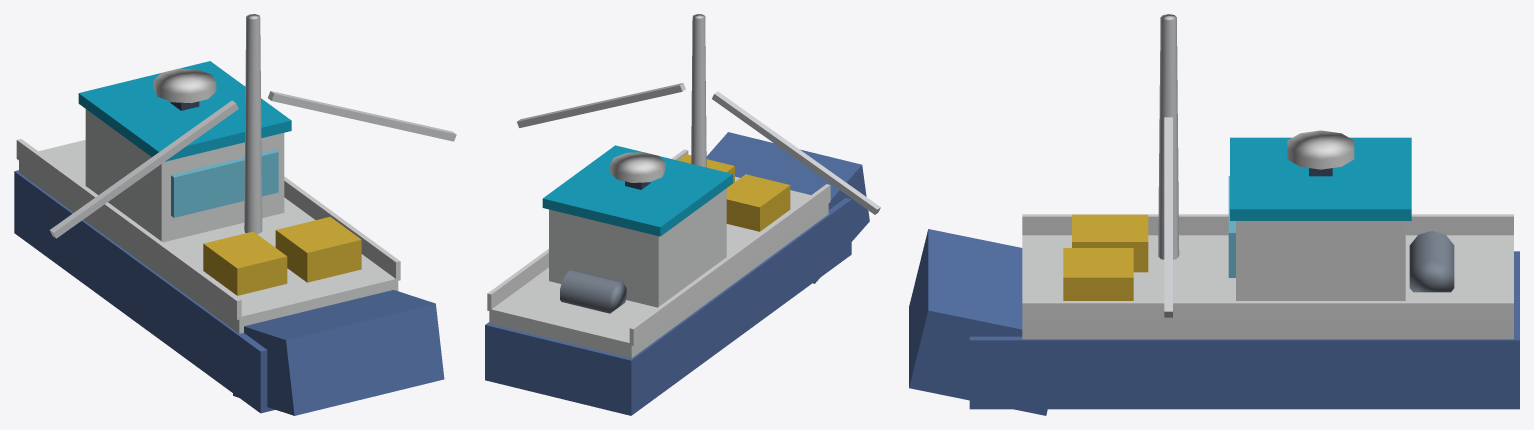
File: shrimp-boat.glb
The picture shows the model from 3 angles, left to right: view 1: azimuth 30°, elevation 25°; view 2: azimuth 150°, elevation 25°; view 3: azimuth 270°, elevation 25°; orthographic projection. The views are drawn at different scales.
Parts seen in each view (by area): view 1: Root; view 2: Root; view 3: Root.
Part boxes in pixels (x1,y1,x2,y2): Root: (14,14,456,415); Root: (485,14,880,415); Root: (909,14,1519,415).
Bounding box in the file's own units: 8.88 × 6.74 × 10.43.
